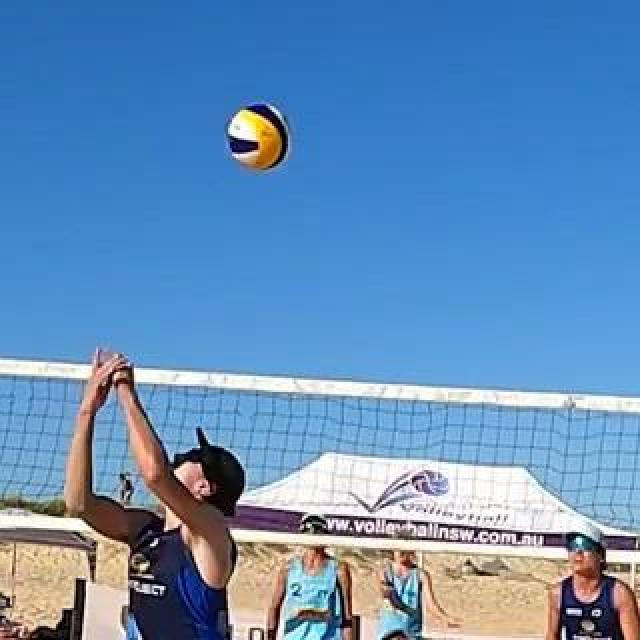volleyball: (226, 106, 290, 170)
